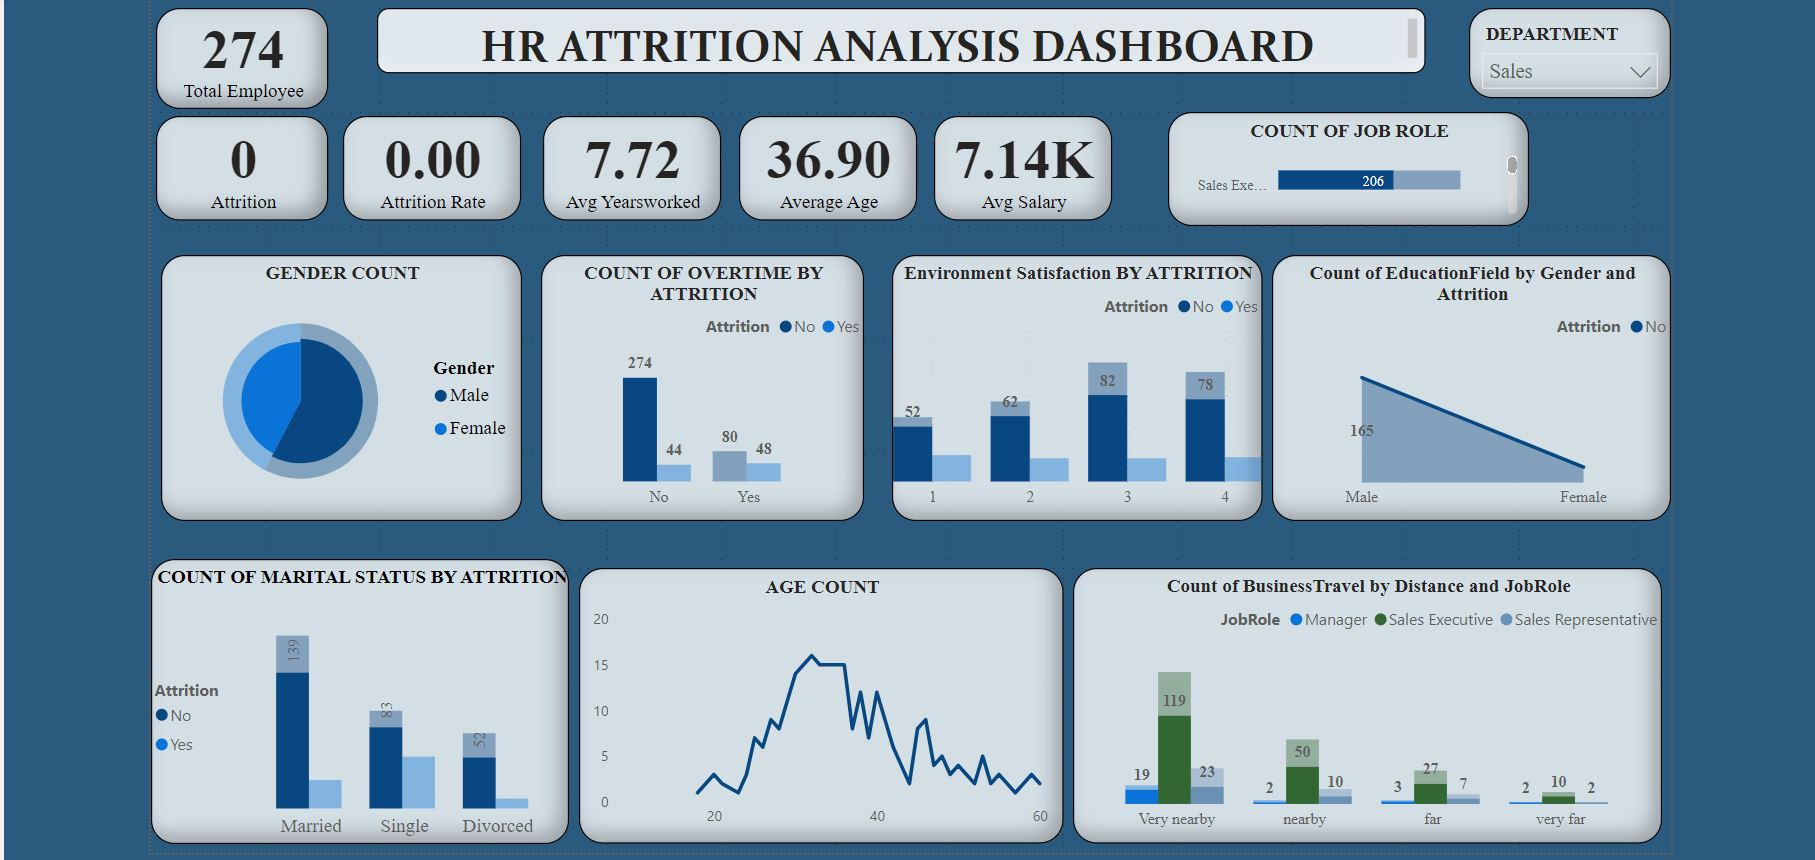

The dashboard page shown, as its layout file describes it:
{"tool":"powerbi","page":{"name":"Page 1","canvas":[1280,720],"ordinal":0},"visuals":[{"type":"card","fields":{"Values":["Avg(Sheet1.Age)"]},"box":[495.4,99.4,149.8,87.8],"z":0},{"type":"card","fields":{"Values":["Sum(Sheet1.Att_rate)"]},"box":[4.3,99.4,145.4,87.8],"z":1000},{"type":"card","fields":{"Values":["CountNonNull(Sheet1.Attrition)"]},"box":[4.3,8.6,145.4,85],"z":2000},{"type":"card","fields":{"Values":["Avg(Sheet1.Att_rate)"]},"box":[161.3,99.4,149.8,87.8],"z":3000},{"type":"card","fields":{"Values":["Avg(Sheet1.MonthlyIncome)"]},"box":[659.5,99.4,149.8,87.8],"z":4000},{"type":"slicer","fields":{"Values":["Sheet1.Department"]},"box":[1110.2,8.6,169.9,76.3],"z":5000},{"type":"pieChart","title":"GENDER COUNT","fields":{"Category":["Sheet1.Gender"],"Y":["CountNonNull(Sheet1.Gender)"]},"box":[8,216,304,224],"z":6000},{"type":"clusteredColumnChart","title":"COUNT OF OVERTIME BY ATTRITION","fields":{"Category":["Sheet1.OverTime"],"Y":["CountNonNull(Sheet1.Attrition)"],"Series":["Sheet1.Attrition"]},"box":[328,216,272,224],"z":7000},{"type":"clusteredColumnChart","title":"COUNT OF MARITAL STATUS BY ATTRITION","fields":{"Category":["Sheet1.MaritalStatus"],"Series":["Sheet1.Attrition"],"Y":["CountNonNull(Sheet1.MaritalStatus)"]},"box":[0,472,352,240],"z":8000},{"type":"barChart","title":"COUNT OF JOB ROLE","fields":{"Y":["CountNonNull(Sheet1.Attrition)"],"Category":["Sheet1.JobRole"]},"box":[856,96,304,96],"z":9000},{"type":"textbox","box":[190.1,8.6,882.7,54.7],"z":10000},{"type":"lineChart","title":"AGE COUNT","fields":{"Category":["Sheet1.Age"],"Y":["CountNonNull(Sheet1.Attrition)"]},"box":[360,480,408,232],"z":11000},{"type":"card","fields":{"Values":["Avg(Sheet1.YearsAtCompany)"]},"box":[329.8,99.4,149.8,87.8],"z":12000},{"type":"clusteredColumnChart","title":"Environment Satisfaction BY ATTRITION","fields":{"Y":["CountNonNull(Sheet1.Attrition)"],"Series":["Sheet1.Attrition"],"Category":["Sheet1.EnvironmentSatisfaction"]},"box":[624,216,312,224],"z":13000},{"type":"stackedAreaChart","fields":{"Y":["CountNonNull(Sheet1.EducationField)"],"Series":["Sheet1.Attrition"],"Category":["Sheet1.Gender"]},"box":[944,216,336,224],"z":14001},{"type":"clusteredColumnChart","fields":{"Series":["Sheet1.JobRole"],"Y":["CountNonNull(Sheet1.BusinessTravel)"],"Category":["Sheet1.Distance"]},"box":[776,480,496,232],"z":14002}]}

Visuals, with their boxes on the page's 1280x720 design canvas (x1, y1, x2, y2). These are canvas units, not pixel positions in the 1815x860 screenshot, which may show the page scaled, cropped or inside an application window:
card - Avg(Sheet1.Age): (495,99,645,187)
card - Sum(Sheet1.Att_rate): (4,99,150,187)
card - CountNonNull(Sheet1.Attrition): (4,9,150,94)
card - Avg(Sheet1.Att_rate): (161,99,311,187)
card - Avg(Sheet1.MonthlyIncome): (660,99,809,187)
slicer - Sheet1.Department: (1110,9,1280,85)
"GENDER COUNT" pieChart: (8,216,312,440)
"COUNT OF OVERTIME BY ATTRITION" clusteredColumnChart: (328,216,600,440)
"COUNT OF MARITAL STATUS BY ATTRITION" clusteredColumnChart: (0,472,352,712)
"COUNT OF JOB ROLE" barChart: (856,96,1160,192)
textbox: (190,9,1073,63)
"AGE COUNT" lineChart: (360,480,768,712)
card - Avg(Sheet1.YearsAtCompany): (330,99,480,187)
"Environment Satisfaction BY ATTRITION" clusteredColumnChart: (624,216,936,440)
stackedAreaChart - CountNonNull(Sheet1.EducationField) x Sheet1.Attrition: (944,216,1280,440)
clusteredColumnChart - Sheet1.JobRole x CountNonNull(Sheet1.BusinessTravel): (776,480,1272,712)
